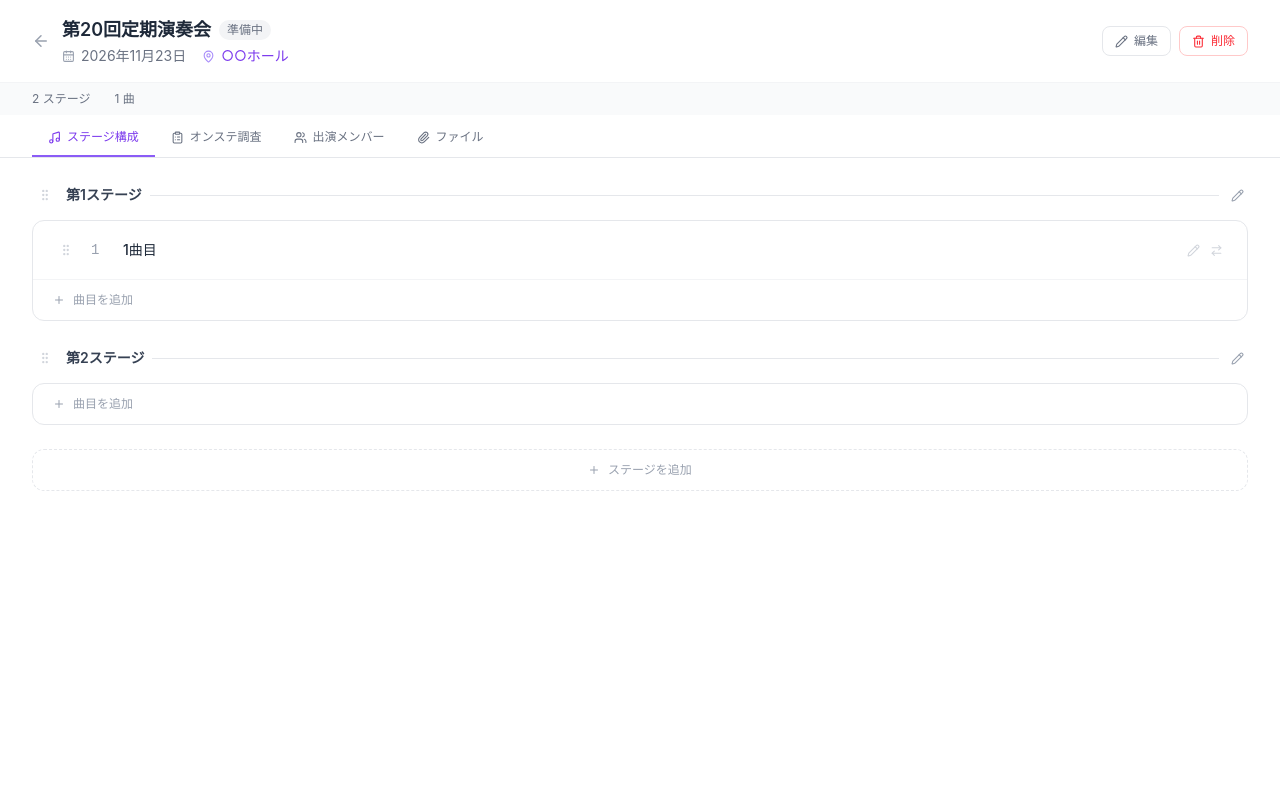
ConcertDetailPage（失敗の表示） › 移動で元の曲目の削除に失敗したら、移動先に追加した状態にして警告を表示する
Click the button titled "移動 / コピー" at (1216, 250), box 1206,240 -> 1227,260
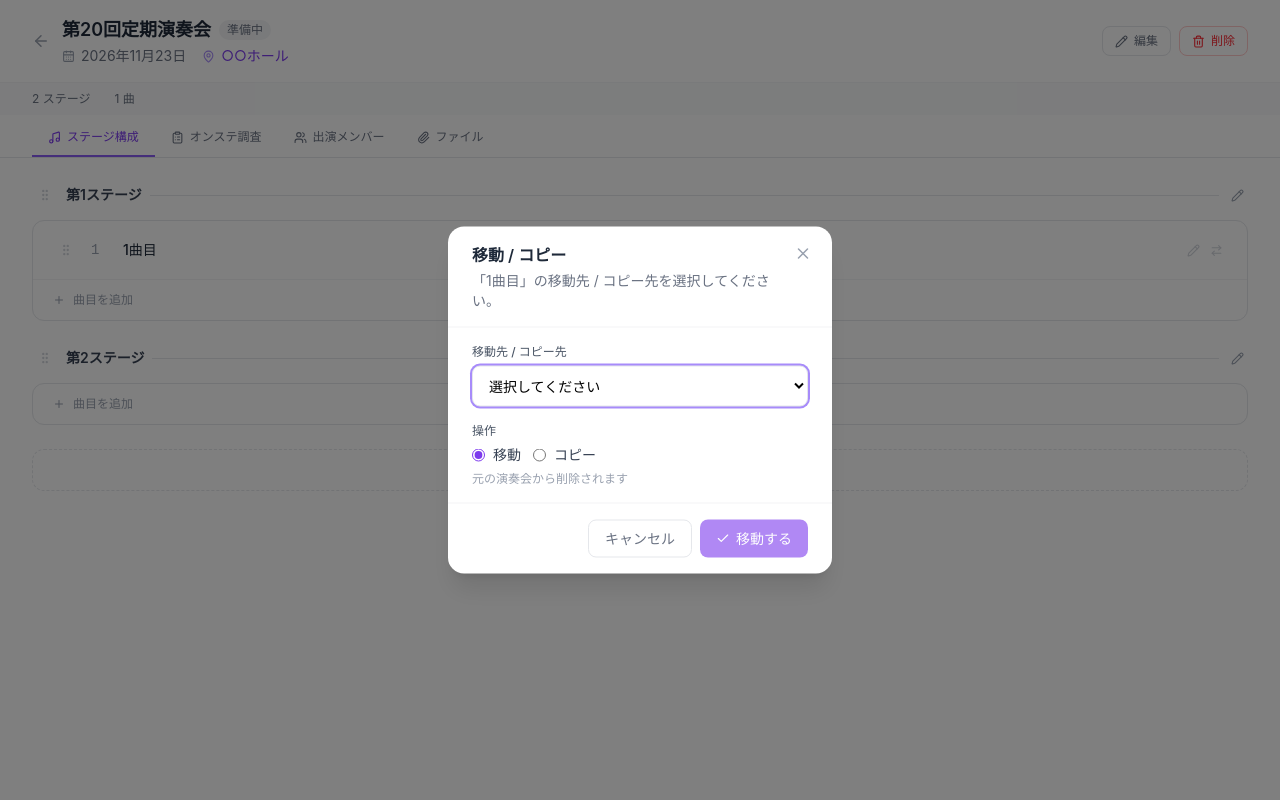
Select "第2ステージ" in the dropdown labelled "移動先 / コピー先" at (640, 386), box 472,366 -> 808,406
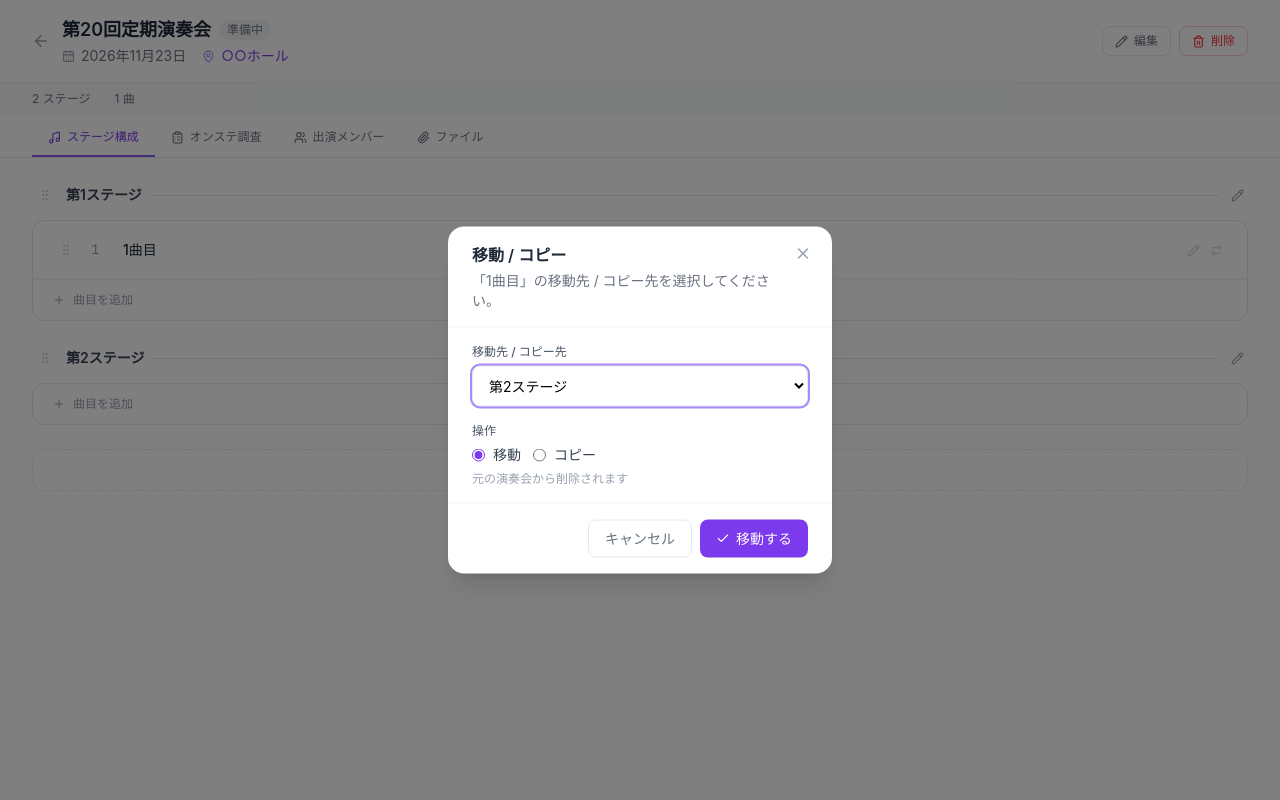
Click the button "移動する" at (754, 538), box 700,520 -> 808,558
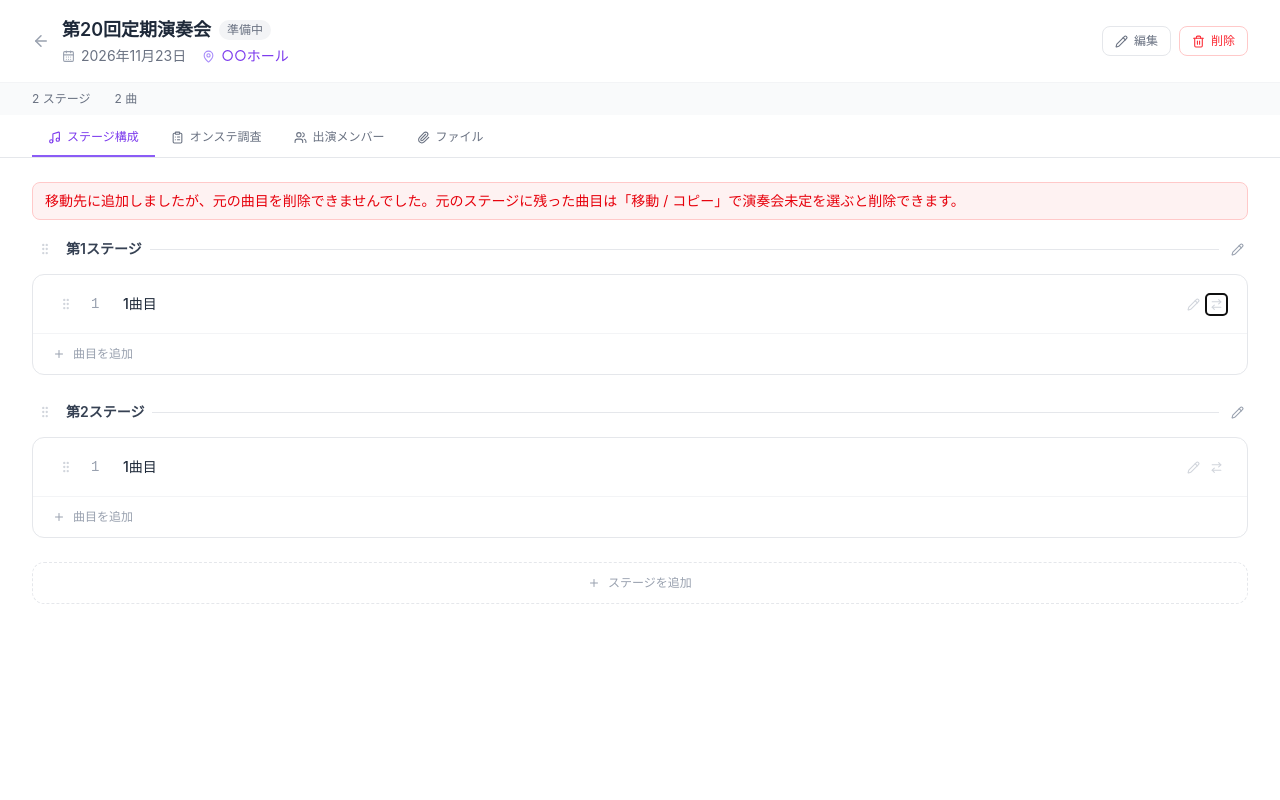
Now the message shows "移動先に追加しましたが、元の曲目を削除できませんでした。", box 45,192 -> 965,209
Now the dialog is gone
Now the text "1曲目" is shown 2 times, box 123,295 -> 157,312; 123,458 -> 157,475
